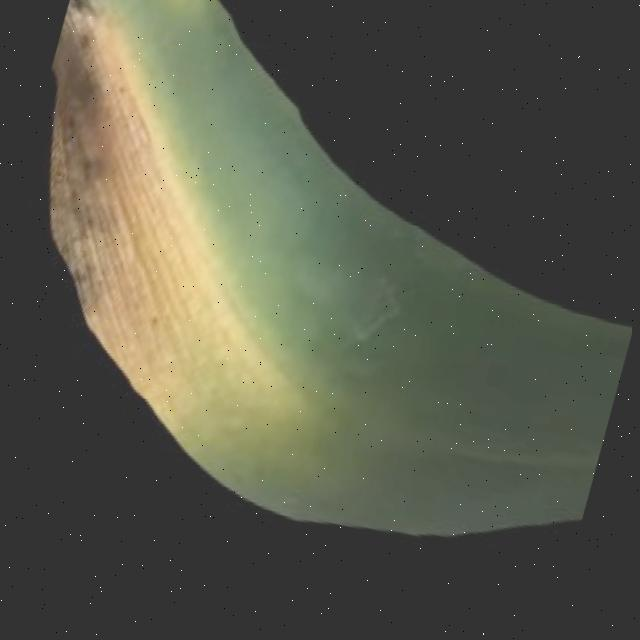mite: (98, 0, 639, 335), (325, 265, 416, 389)
